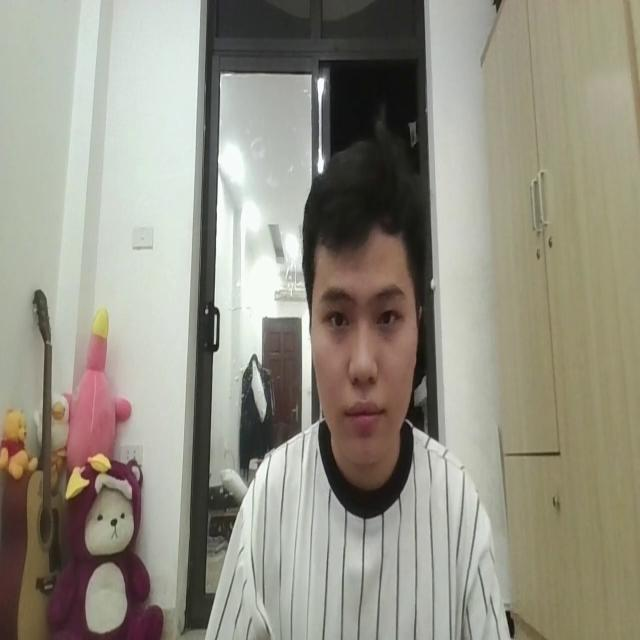student: (205, 132, 506, 640)
